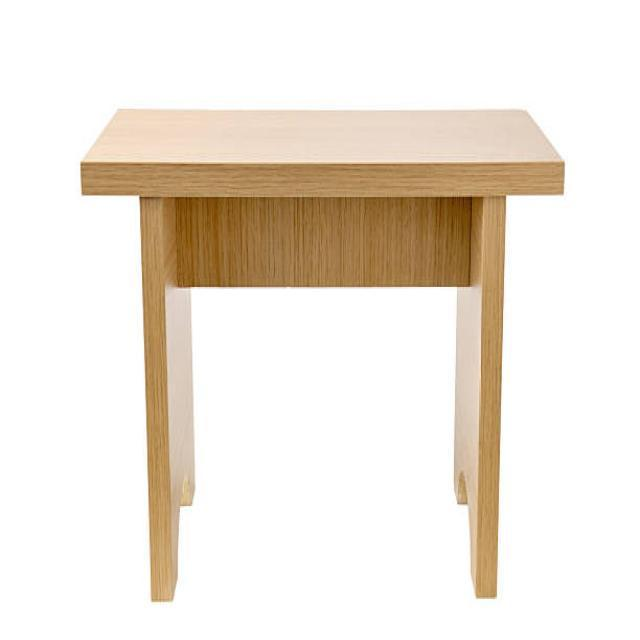table: (80, 105, 564, 602)
